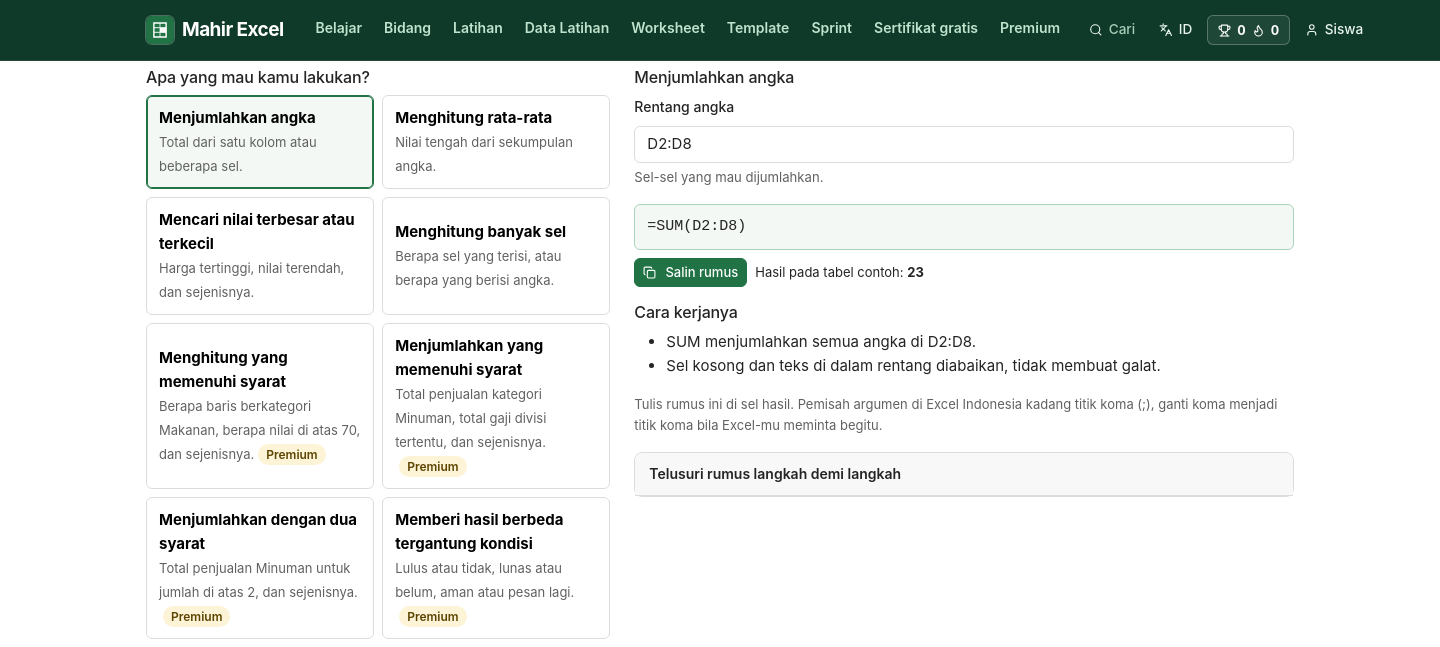
Test: halaman Wizard rumus › akun gratis: tujuan dasar menampilkan rumus dan hasil, tujuan lanjutan terkunci
(page scrolled)
Expected: the text with test id "wizard-formula" reads "=SUM(D2:D8)", [647,218,746,235]
Expected: the element with test id "wizard-outcome" shows "23", [907,264,924,280]
Click the button "Menghitung yang memenuhi syarat".
click(260, 406)  # box [146,323,374,489]
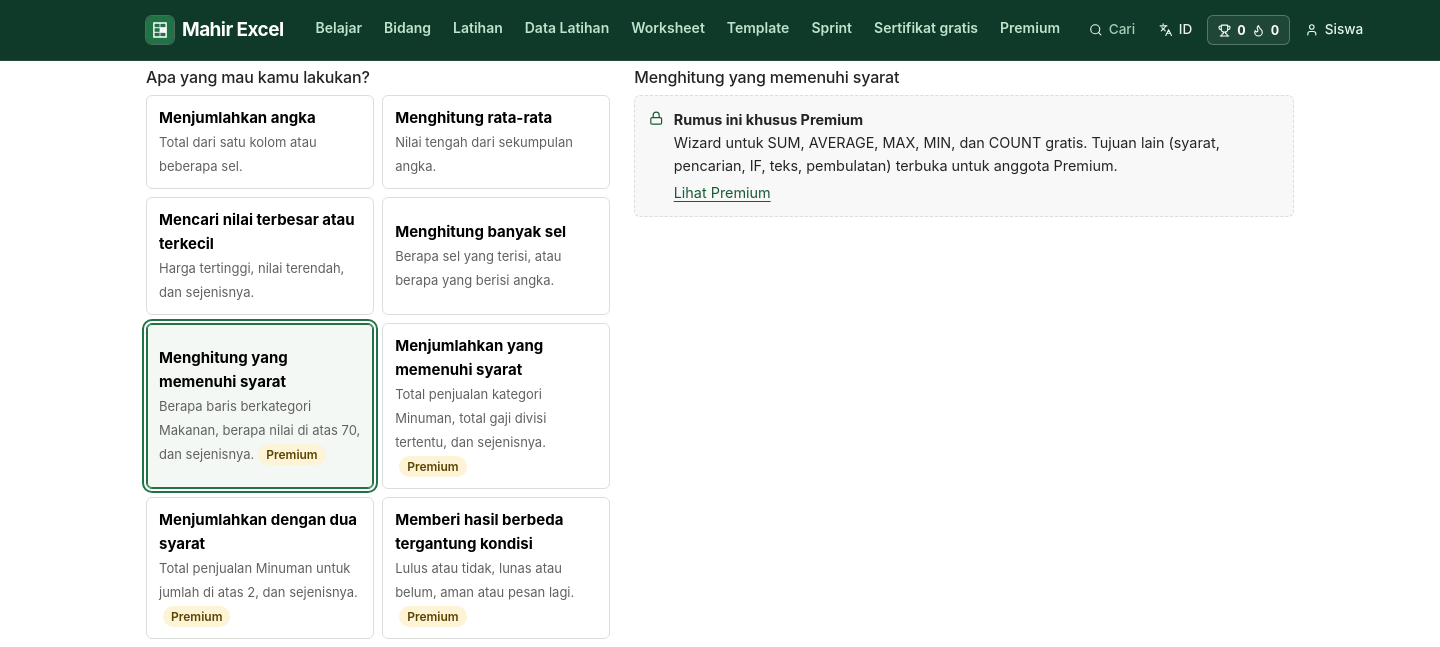
Result: the text "Rumus ini khusus Premium" is shown at [674,111,863,128]
Result: the text with test id "wizard-formula" is gone
